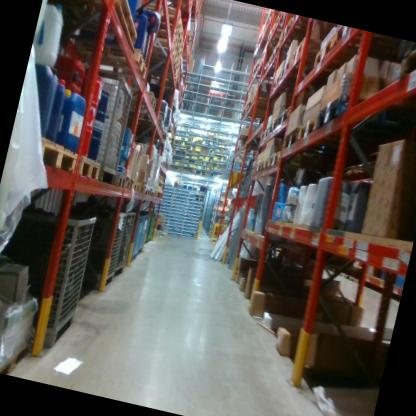pallet: (39, 0, 147, 49), (314, 94, 395, 157), (311, 31, 396, 88), (65, 31, 150, 83), (270, 17, 314, 100), (29, 128, 88, 183), (294, 120, 369, 163), (281, 127, 350, 172), (334, 25, 403, 57), (279, 55, 328, 91), (289, 33, 326, 76), (0, 332, 35, 377), (267, 144, 311, 176), (120, 85, 161, 117), (74, 149, 106, 186), (136, 1, 185, 24), (146, 35, 180, 61), (141, 52, 179, 74), (149, 25, 180, 48), (148, 22, 182, 41), (276, 103, 296, 134), (147, 16, 183, 32), (108, 171, 129, 189), (180, 27, 196, 49), (291, 14, 318, 27), (257, 125, 271, 148), (268, 115, 280, 140), (179, 49, 194, 68), (131, 183, 147, 199), (118, 179, 135, 194), (259, 154, 270, 175), (128, 177, 142, 193), (252, 160, 263, 176), (170, 49, 181, 65), (177, 22, 188, 37), (171, 69, 181, 84), (175, 31, 185, 45), (174, 43, 182, 58), (142, 185, 151, 198), (174, 65, 183, 75), (175, 58, 183, 66)
stillage: (0, 195, 102, 364), (79, 202, 128, 305), (99, 202, 140, 274), (123, 211, 149, 266), (138, 207, 154, 257)
